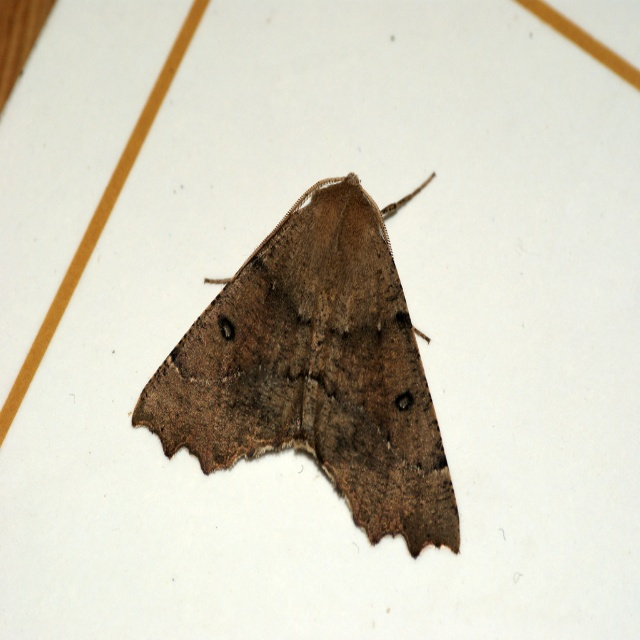Moths and butterflies: (132, 170, 460, 558)
